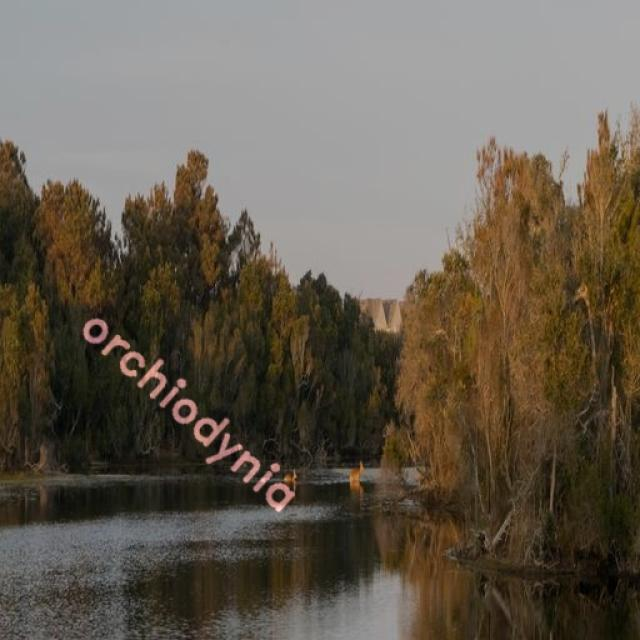watermark: (66, 295, 316, 524)
